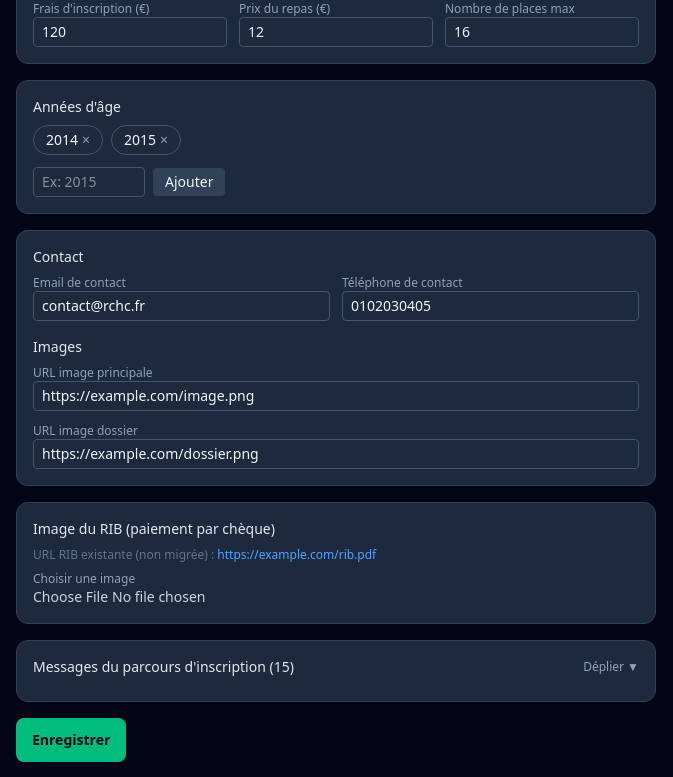
Scenario: ParametresInscriptionPage › replie les messages par défaut et les révèle au clic
(page scrolled)
Expected: the field labelled "Message d'accueil" is not shown
Click the button "Messages du parcours d'inscription (15) Déplier ▼": (153, 666) [33,657,639,677]
(page scrolled)
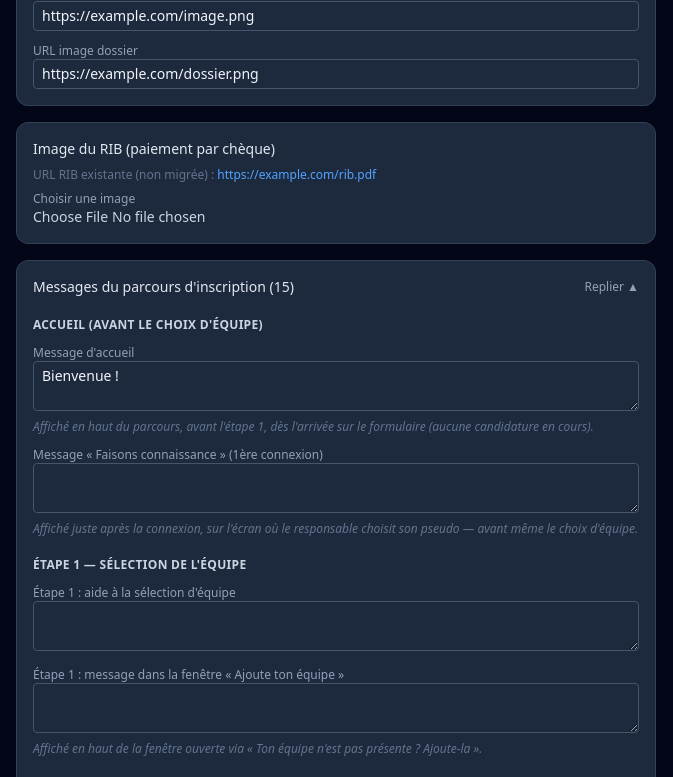
Now the text box labelled "Message d'accueil" holds "Bienvenue !", box [33,361,639,411]
